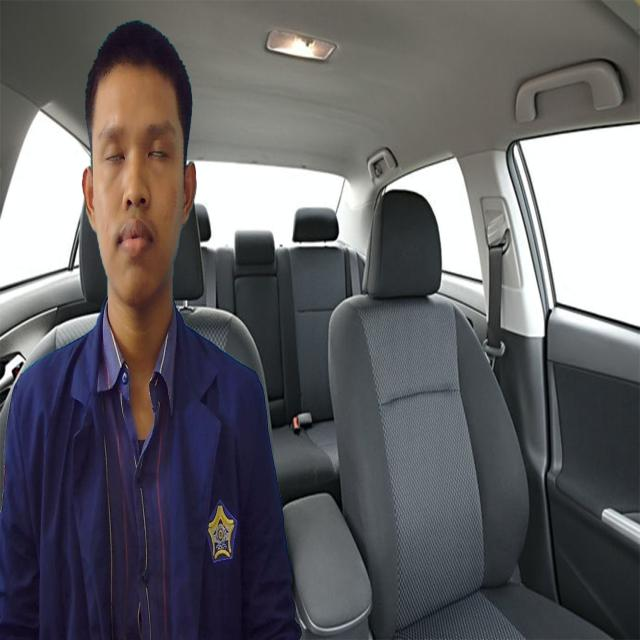no-seatbelt: (91, 65, 184, 311)
